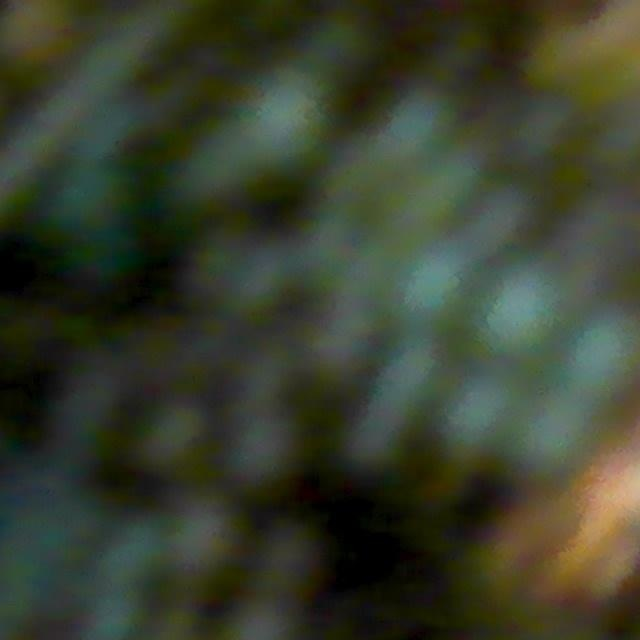SeaGrape: (233, 64, 335, 171), (477, 257, 572, 360), (435, 366, 525, 458), (510, 389, 598, 482), (389, 235, 471, 330), (562, 307, 640, 400), (402, 145, 484, 227), (164, 495, 244, 576), (224, 408, 304, 489), (382, 86, 459, 164), (135, 396, 211, 475), (256, 520, 325, 589), (101, 517, 168, 585), (307, 8, 376, 74)
